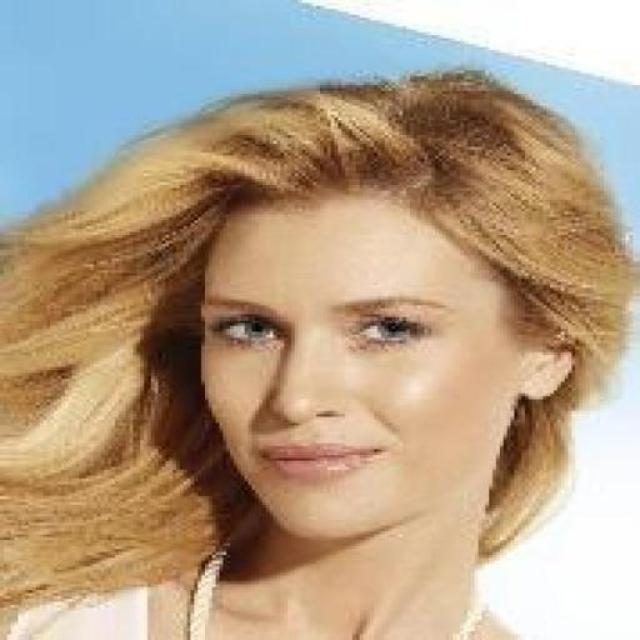bareface: (206, 188, 497, 541)
